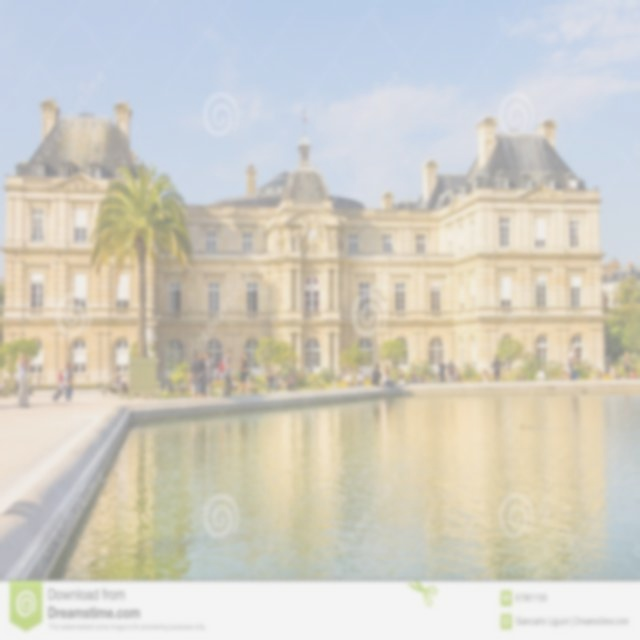pessoa: (267, 212, 348, 268), (218, 348, 237, 397), (16, 352, 32, 408), (188, 348, 205, 400), (60, 174, 104, 192), (100, 369, 128, 396), (204, 350, 216, 398), (526, 186, 562, 202), (237, 352, 250, 396), (196, 352, 208, 394), (370, 363, 386, 393), (160, 376, 189, 392), (64, 360, 74, 402), (594, 364, 620, 380), (265, 369, 279, 398), (381, 362, 396, 388), (619, 350, 632, 380), (479, 368, 492, 394), (570, 348, 580, 380), (491, 354, 502, 382), (568, 344, 576, 382), (275, 371, 288, 392), (438, 357, 448, 383), (446, 357, 456, 383), (286, 370, 296, 392), (408, 368, 420, 384), (12, 374, 20, 396), (34, 373, 42, 394), (58, 369, 64, 397), (345, 370, 354, 388), (536, 366, 546, 382), (550, 370, 566, 380), (356, 369, 364, 387), (456, 372, 464, 389), (247, 376, 256, 388), (398, 368, 406, 381), (231, 375, 239, 388), (516, 370, 526, 380), (62, 368, 68, 384), (417, 372, 425, 384), (0, 380, 7, 392), (630, 367, 637, 379), (398, 374, 406, 384), (338, 369, 344, 381), (27, 382, 32, 395), (216, 370, 220, 382)
